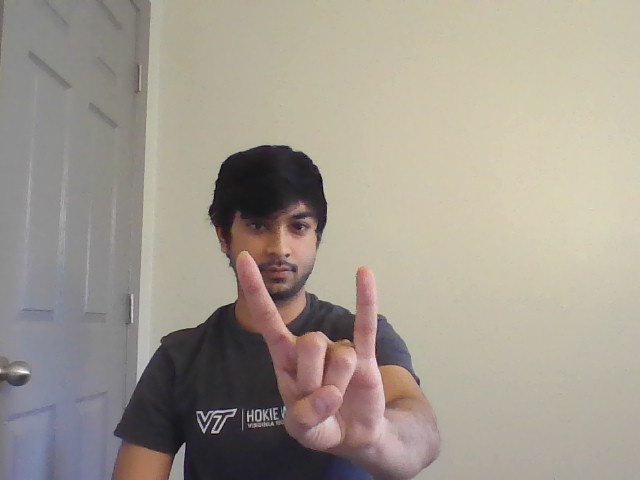help: (230, 248, 392, 451)
